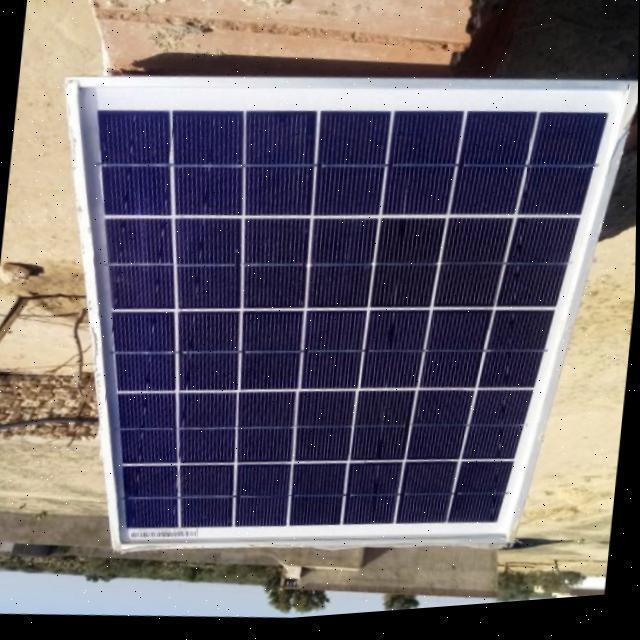Normal Solar Panel: (21, 39, 638, 596)
